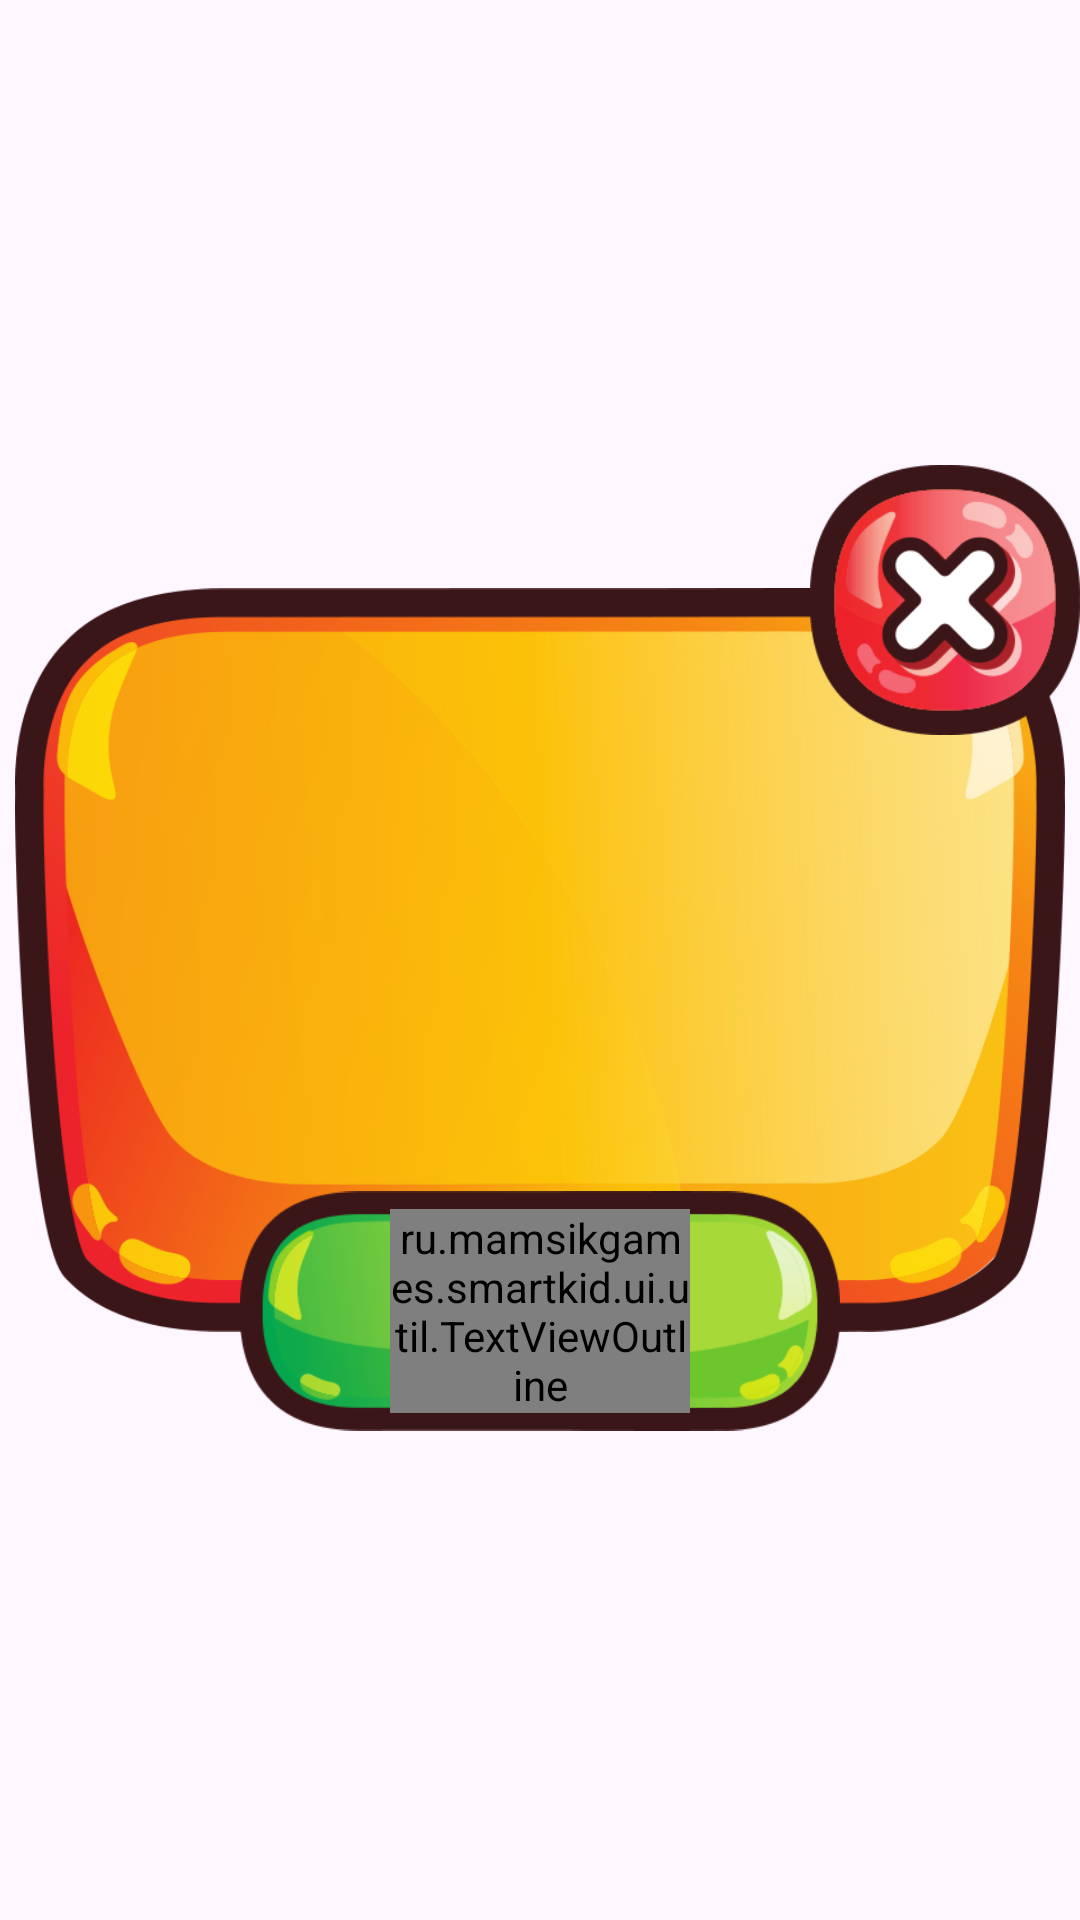

Where to tap for icons on this 1080px x 1920px app screen, as [x,y]:
cancel: [945,600]
